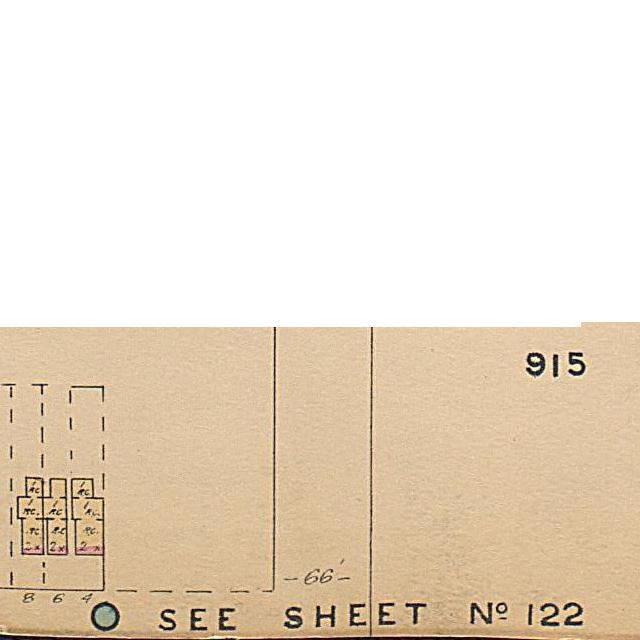building-footprints: (72, 479, 104, 556), (18, 478, 44, 555), (42, 479, 68, 555)
